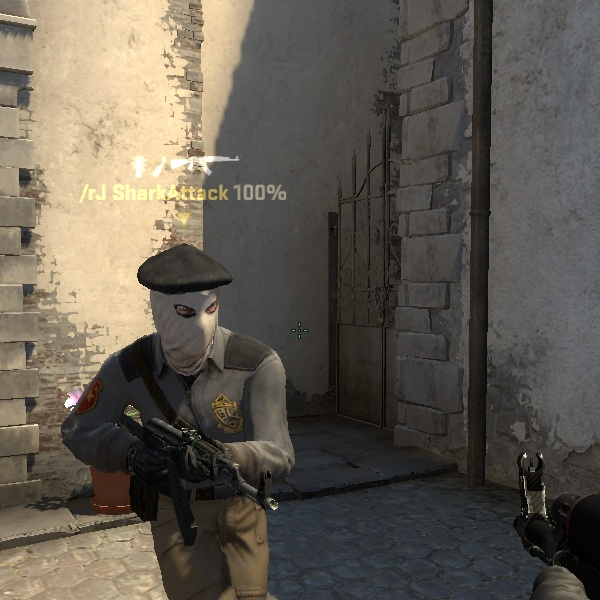t_body: (41, 245, 340, 597)
t_head: (123, 236, 249, 369)
